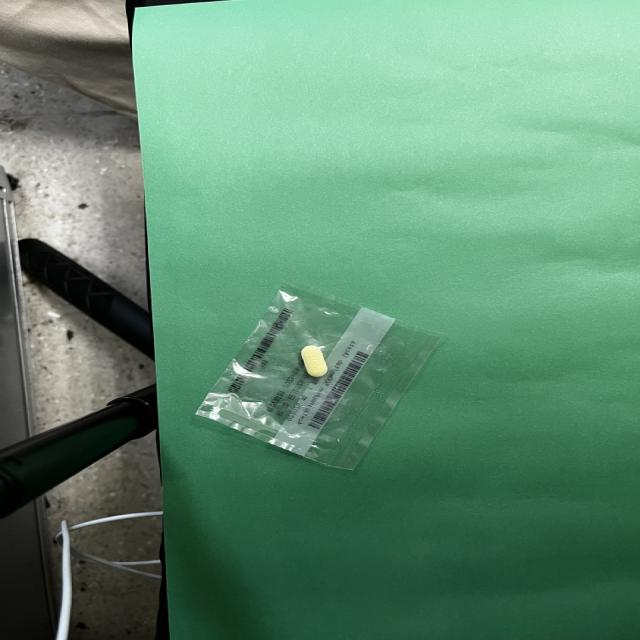Other Objects: (195, 284, 439, 470)
